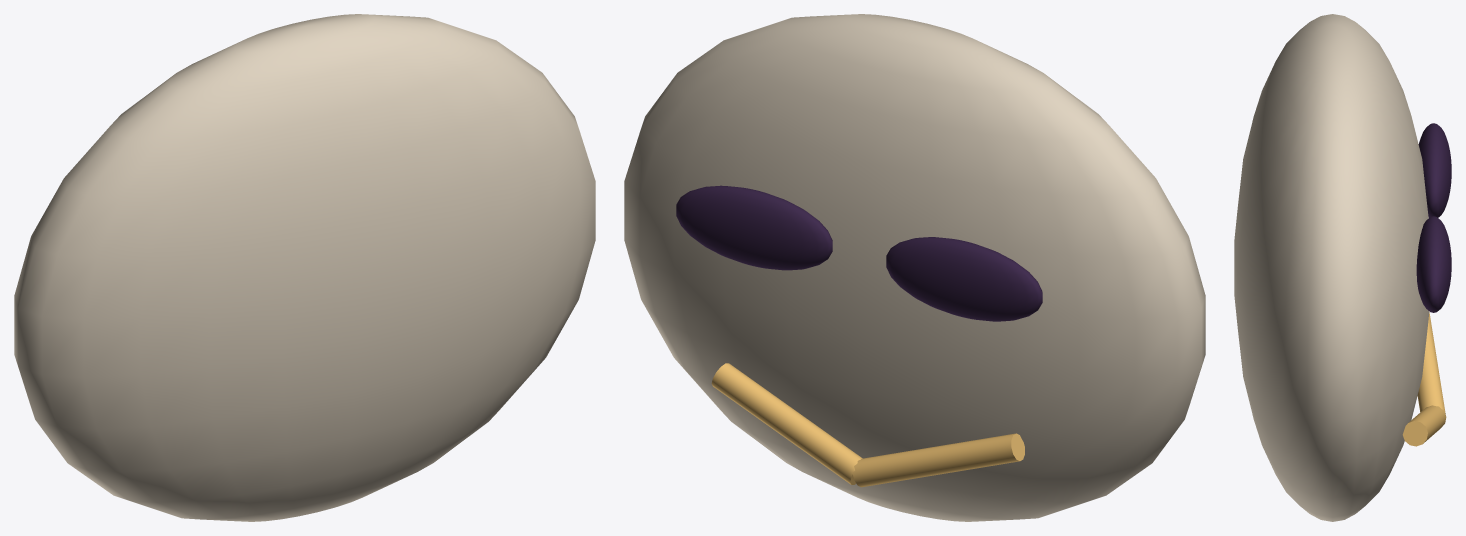
Rendered from mask.glb.
The picture shows the model from 3 angles, left to right: view 1: azimuth 30°, elevation 25°; view 2: azimuth 150°, elevation 25°; view 3: azimuth 270°, elevation 25°; orthographic projection. The views are drawn at different scales.
Parts seen in each view (by area): view 1: IvoryFace; view 2: IvoryFace, LeftEye, RightEye, CheekTrim, _MeshInstance3D_34; view 3: IvoryFace, RightEye, LeftEye, CheekTrim, _MeshInstance3D_34.
Part boxes in pixels (x1,y1,x2,y2): IvoryFace: (14,14,595,521); IvoryFace: (624,14,1205,521); LeftEye: (886,237,1042,321); RightEye: (676,185,832,270); CheekTrim: (852,433,1024,487); _MeshInstance3D_34: (711,363,862,484); IvoryFace: (1234,14,1429,521); RightEye: (1416,216,1451,312); LeftEye: (1418,123,1451,217); CheekTrim: (1417,312,1445,413); _MeshInstance3D_34: (1402,405,1446,446).
Size of the model in its own units: 0.0655 by 0.0528 by 0.0237.
